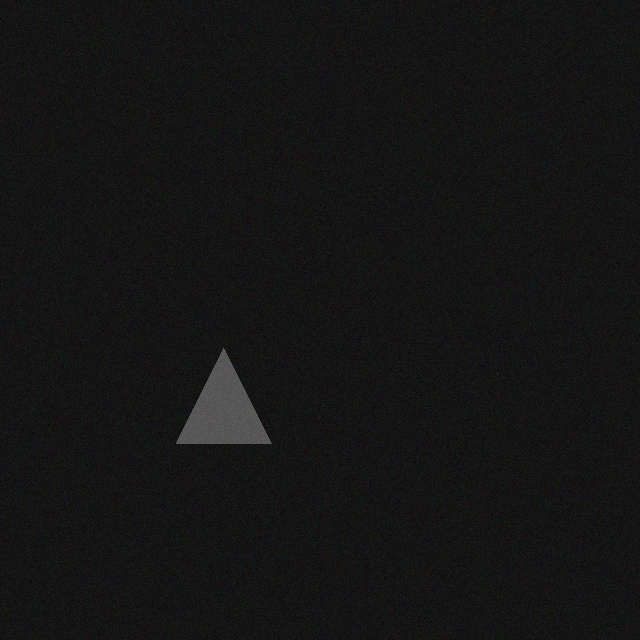triangle: (189, 359, 284, 454)
